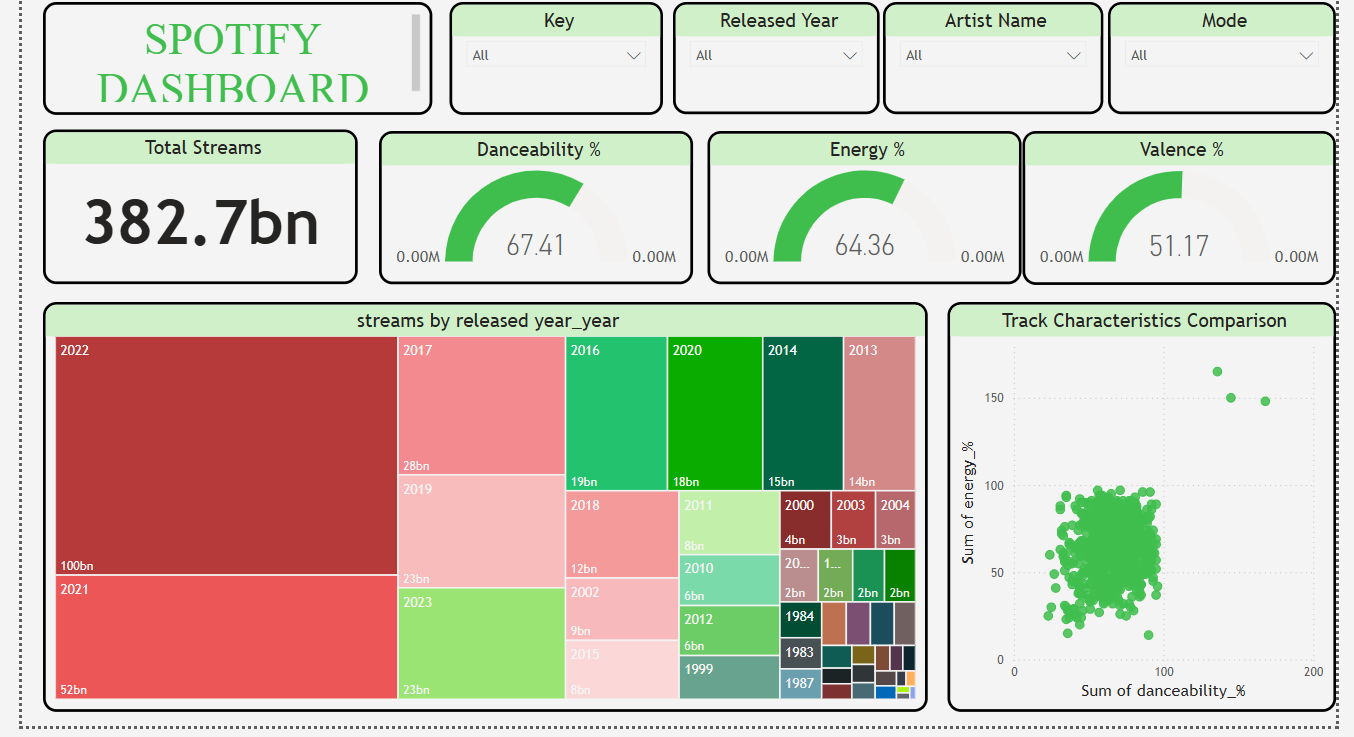

The dashboard page shown, as its layout file describes it:
{"tool":"powerbi","page":{"name":"Page 1","canvas":[1280,720],"ordinal":0},"visuals":[{"type":"slicer","title":"Key","fields":{"Values":["spotify-2023 csv.key"]},"box":[416.5,14.9,208.3,109.7],"z":0},{"type":"slicer","title":"Released Year ","fields":{"Values":["spotify-2023 csv.released_year"]},"box":[634.4,15.1,201.4,109.2],"z":1000},{"type":"slicer","title":"Artist Name","fields":{"Values":["spotify-2023 csv.artist(s)_name"]},"box":[839.5,15.1,214.6,109.2],"z":2000},{"type":"slicer","title":"Mode","fields":{"Values":["spotify-2023 csv.mode"]},"box":[1057.9,15.1,222.1,109.2],"z":3000},{"type":"card","title":"Total Streams","fields":{"Values":["Sum(spotify-2023 csv.streams)"]},"box":[20.7,139.3,306.8,150.6],"z":4000},{"type":"gauge","title":" Danceability %","fields":{"Y":["Avg(spotify-2023 csv.danceability_%)"]},"box":[347.4,140.2,306.3,149.3],"z":5000},{"type":"gauge","title":"Energy %","fields":{"Y":["Avg(spotify-2023 csv.energy_%)"]},"box":[667.4,140.2,306.3,149.3],"z":6000},{"type":"gauge","title":"Valence %","fields":{"Y":["Avg(spotify-2023 csv.valence_%)"]},"box":[975.4,140.2,305.3,149.8],"z":7000},{"type":"treemap","title":"streams by released year_year","fields":{"Group":["spotify-2023 csv.released_year"],"Values":["Sum(spotify-2023 csv.streams)"]},"box":[20.7,306.8,862.1,399.1],"z":8000},{"type":"scatterChart","title":"Track Characteristics Comparison","fields":{"Category":["spotify-2023 csv.streams"],"X":["Sum(spotify-2023 csv.danceability_%)"],"Y":["Sum(spotify-2023 csv.energy_%)"]},"box":[901.6,306.8,378.4,399.1],"z":9000},{"type":"textbox","box":[20.5,14.9,379.4,109.7],"z":10000}]}

Visuals, with their boxes in screenshot pixels (x1, y1, x2, y2):
"Key" slicer: (456,4,666,115)
"Released Year " slicer: (676,5,879,115)
"Artist Name" slicer: (883,5,1099,115)
"Mode" slicer: (1103,5,1327,115)
"Total Streams" card: (56,130,366,282)
" Danceability %" gauge: (386,131,695,282)
"Energy %" gauge: (709,131,1018,282)
"Valence %" gauge: (1020,131,1328,282)
"streams by released year_year" treemap: (56,299,926,702)
"Track Characteristics Comparison" scatterChart: (945,299,1327,702)
textbox: (56,4,439,115)
